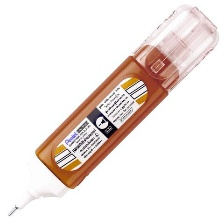correction_fluid: (6, 2, 221, 220)
